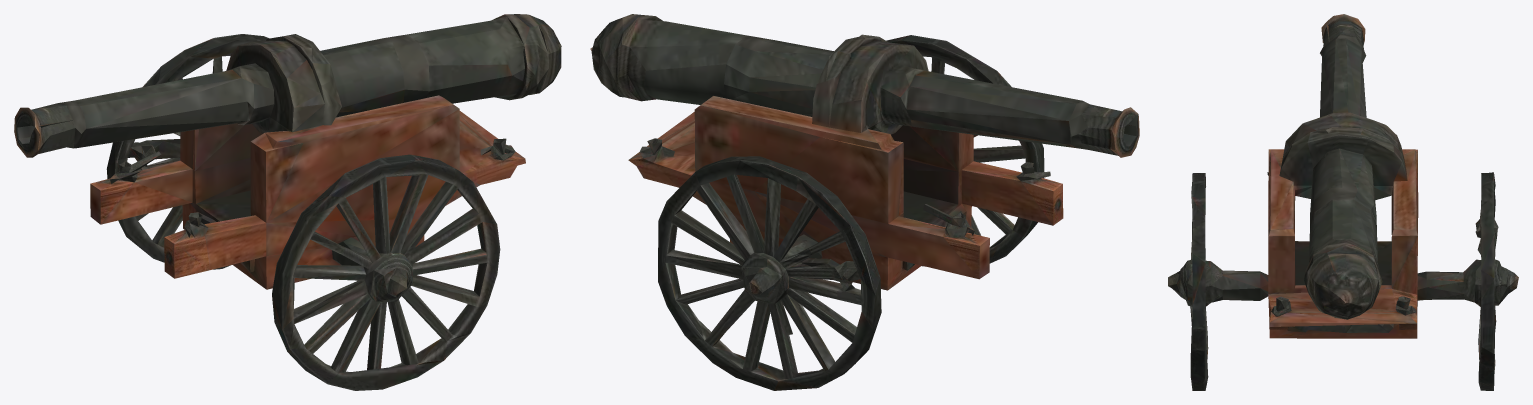
The model's file is gwana_cannon.glb.
3 renders of one model, left to right at view 1: azimuth 30°, elevation 25°; view 2: azimuth 150°, elevation 25°; view 3: azimuth 270°, elevation 25°, orthographic. The views are drawn at different scales.
Size of the model in its own units: 1.84 by 0.9349 by 1.18.
1 material, 1 textured.
